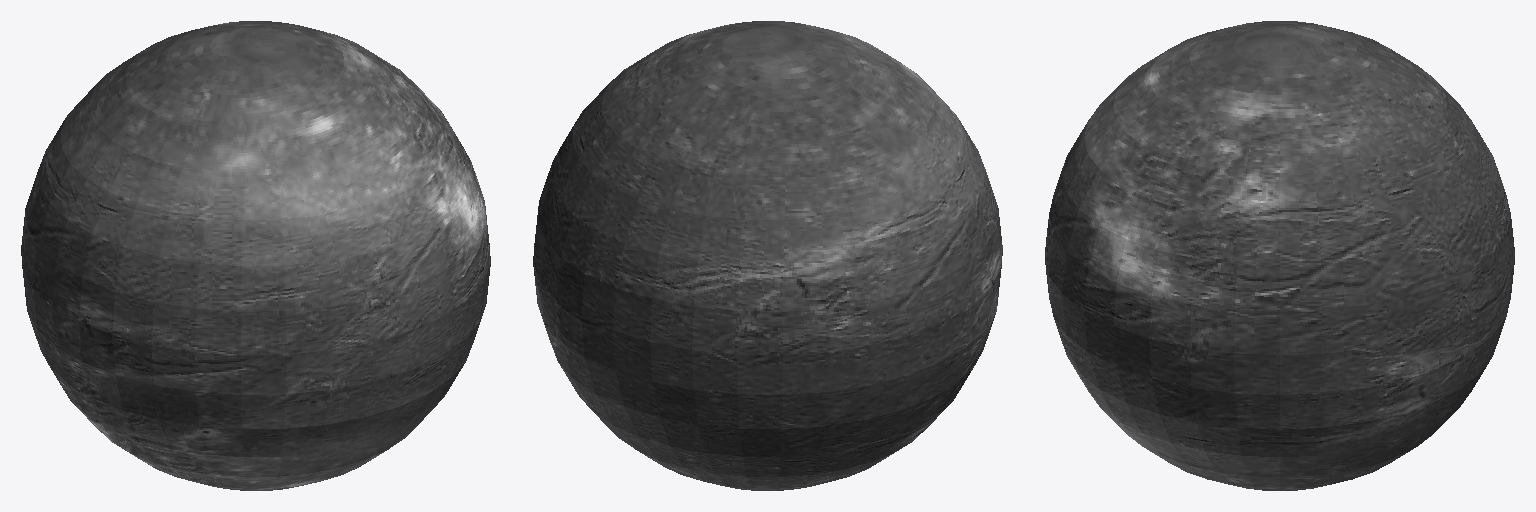
The picture shows the model from 3 angles: view 1: azimuth 30°, elevation 25°; view 2: azimuth 150°, elevation 25°; view 3: azimuth 270°, elevation 25°; orthographic projection.
Parts seen in each view (by area): view 1: Sphere; view 2: Sphere; view 3: Sphere.
Boxes of the visible parts, <box> form: Sphere: <box>21,21,490,490</box>; Sphere: <box>533,21,1002,490</box>; Sphere: <box>1045,21,1514,490</box>.
Size of the model in its own units: 2 by 2 by 2.
1 materials, 1 textured.